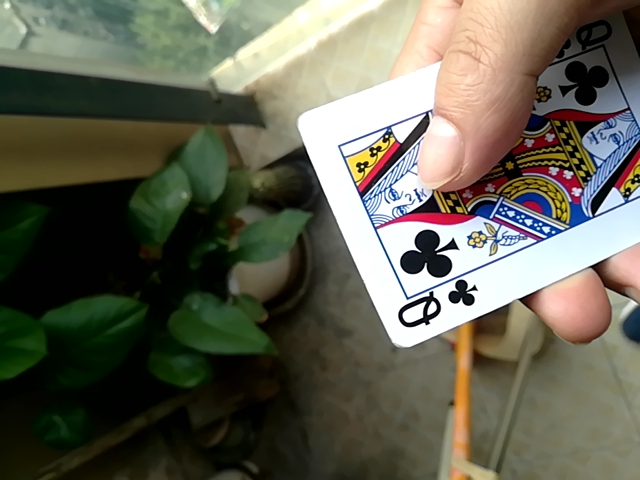mh q: (292, 44, 640, 354)
